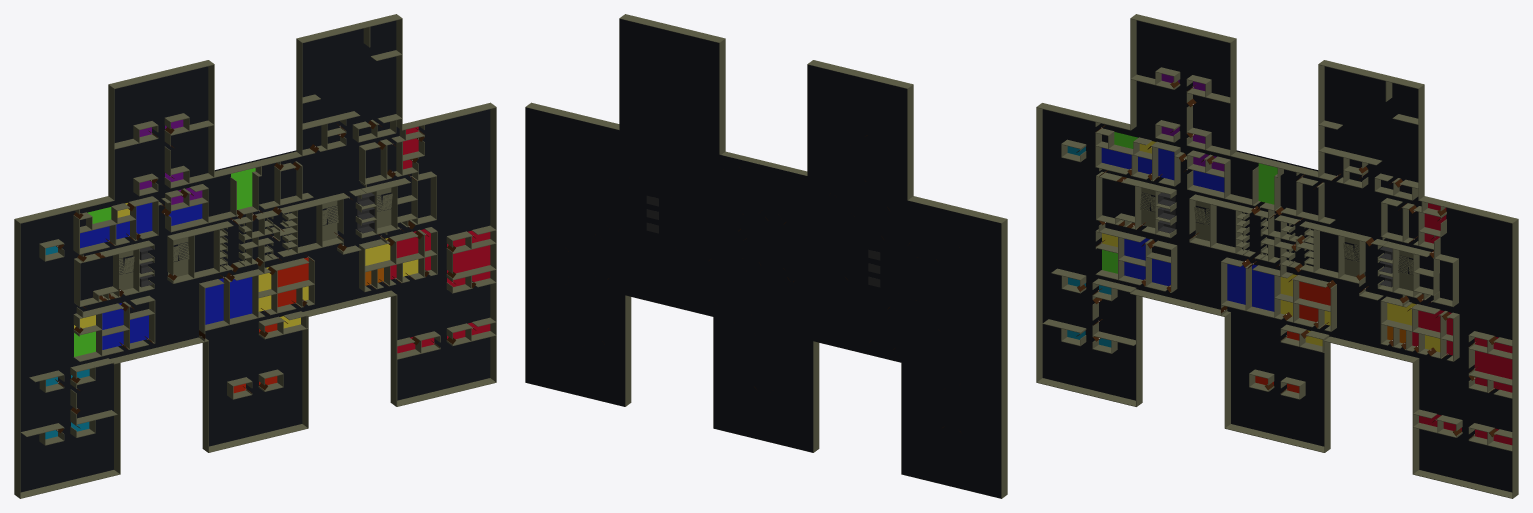
The model's file is CogniteOfficeSmall.dae.
The picture shows the model from 3 angles, left to right: view 1: azimuth 30°, elevation 25°; view 2: azimuth 150°, elevation 25°; view 3: azimuth 330°, elevation 25°; orthographic projection.
Visible parts, largest first — view 1: Floor, Walls, Meeting_Rooms, Printer_Rooms, Open_Space, Stairs, Elevators, Stairs_3_2, Stairs_2; view 2: Floor, Walls, Elevators; view 3: Floor, Walls, Meeting_Rooms, Printer_Rooms, Open_Space, Stairs, Elevators, Stairs_3_2, Stairs_2.
Boxes of the visible parts, bbox=[...] form: Floor: bbox=[20, 20, 490, 492]; Walls: bbox=[14, 14, 496, 498]; Meeting_Rooms: bbox=[45, 119, 490, 439]; Printer_Rooms: bbox=[74, 203, 390, 328]; Open_Space: bbox=[74, 168, 255, 356]; Stairs: bbox=[119, 188, 392, 290]; Elevators: bbox=[139, 192, 374, 287]; Stairs_3_2: bbox=[322, 201, 338, 241]; Stairs_2: bbox=[168, 237, 189, 276]; Floor: bbox=[525, 19, 1001, 498]; Walls: bbox=[525, 14, 1007, 498]; Elevators: bbox=[646, 195, 880, 287]; Floor: bbox=[1042, 20, 1512, 492]; Walls: bbox=[1036, 14, 1518, 498]; Meeting_Rooms: bbox=[1067, 74, 1512, 445]; Printer_Rooms: bbox=[1102, 141, 1415, 346]; Open_Space: bbox=[1102, 132, 1277, 273]; Stairs: bbox=[1140, 187, 1413, 290]; Elevators: bbox=[1158, 192, 1392, 287]; Stairs_3_2: bbox=[1343, 237, 1365, 276]; Stairs_2: bbox=[1194, 201, 1209, 241].
Bounding box in the file's own units: 92.04 × 71.51 × 2.02.
